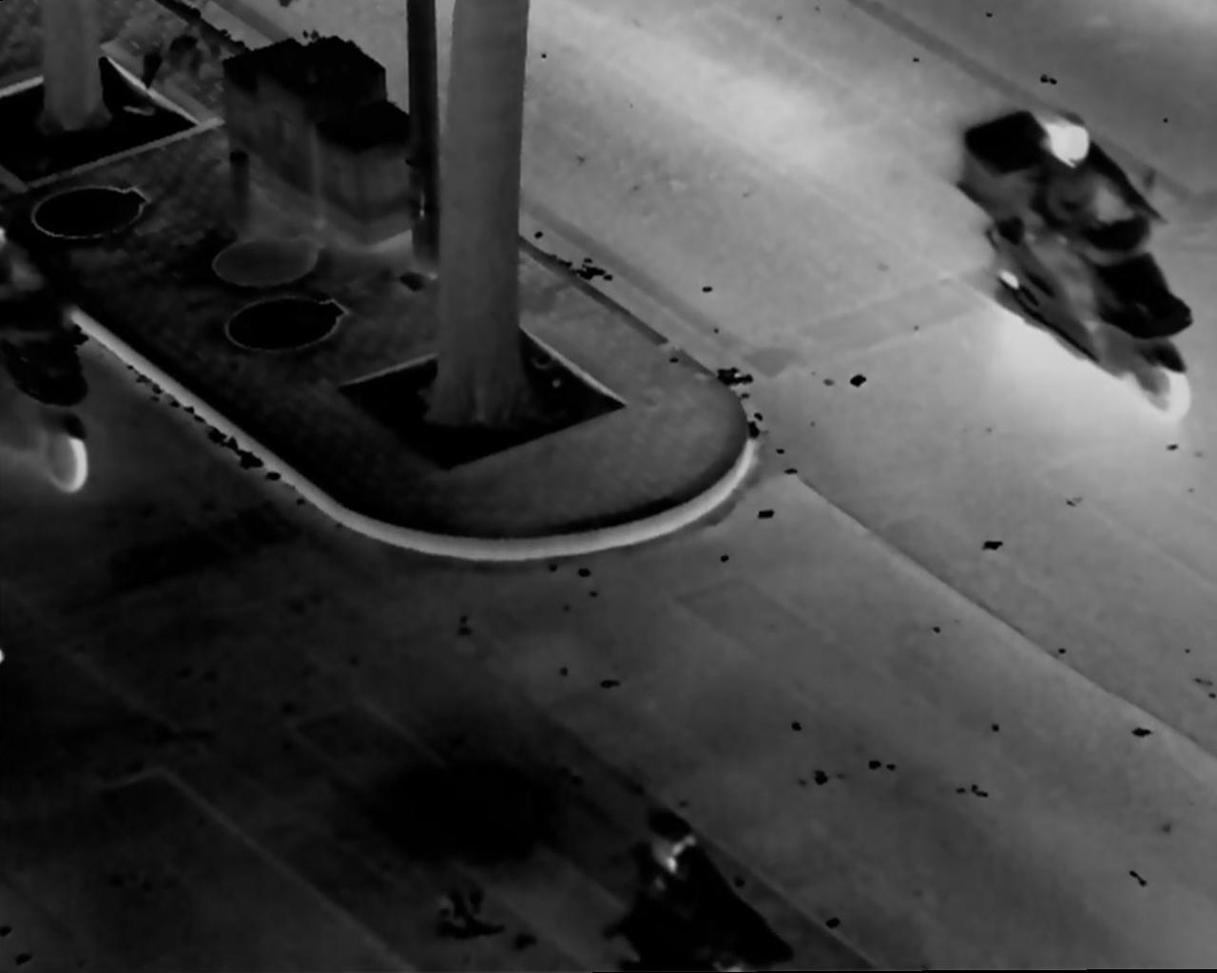person: (1026, 108, 1173, 337), (621, 816, 781, 972)
